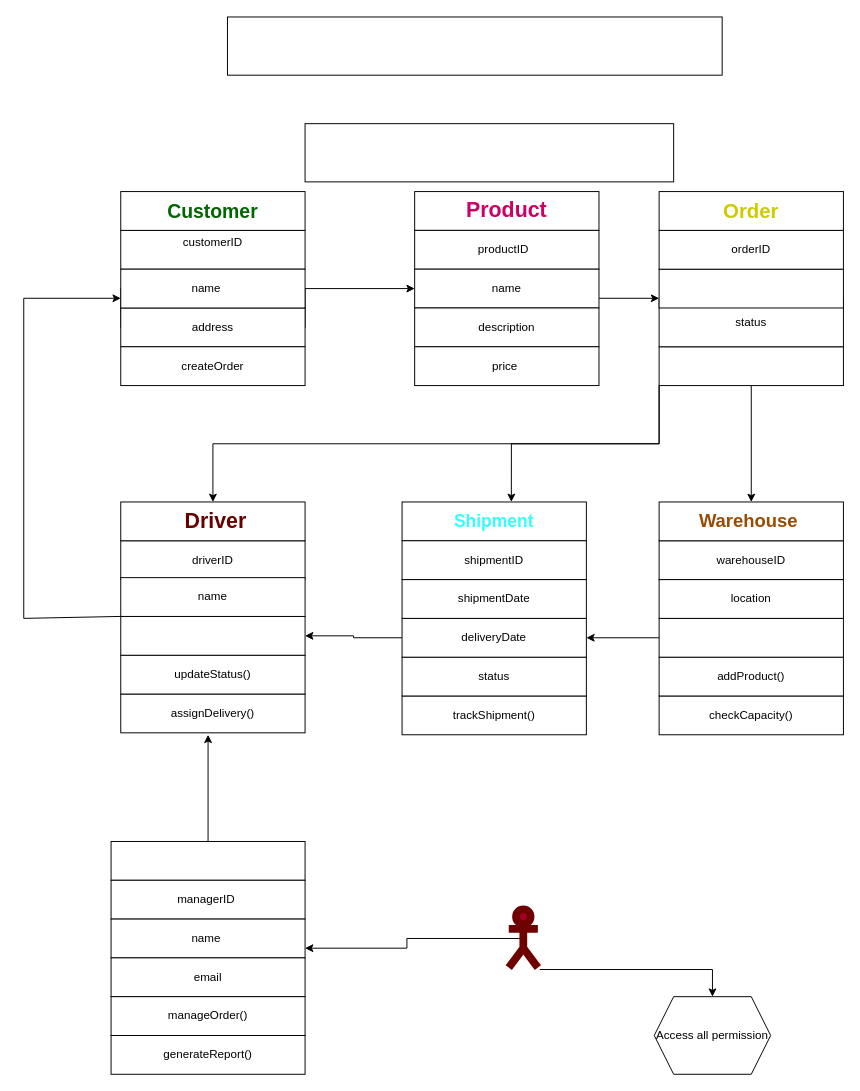
The diagram is 860 pixels wide and 1091 high, and some of its shapes have lost their labels. Each missing label, with the centre of its shape:
"Admin" goes at (522,938).
"capacity" goes at (750,637).
"Class Diagram" goes at (489,152).
"licenseNumber" goes at (212,635).
"Logistics Management System" goes at (474,45).
"Manager" goes at (207,860).
"orderDate" goes at (750,288).
"totalAmount" goes at (750,366).
